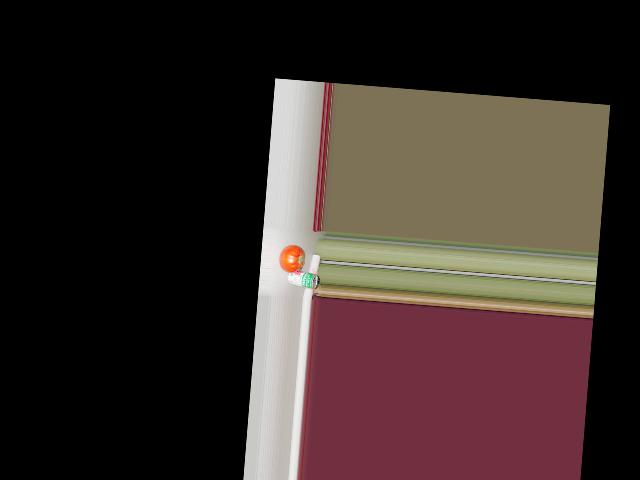tomato: (278, 244, 304, 273)
